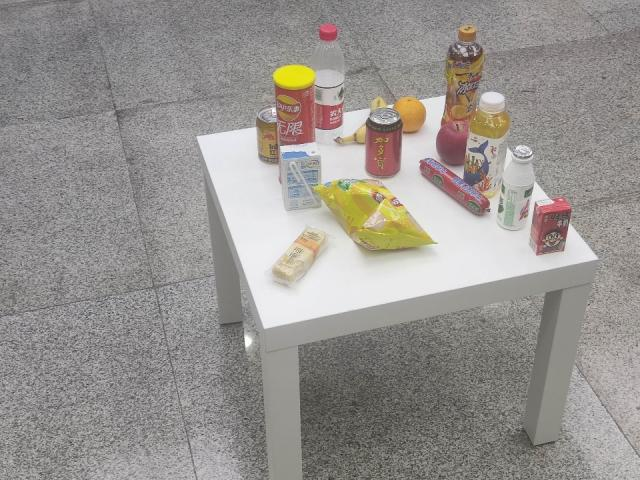Canned_drinks: (366, 107, 400, 179), (256, 103, 282, 163)
bottle: (303, 24, 348, 139)
cylinder: (273, 65, 317, 141)
drink_box: (274, 139, 330, 215), (526, 191, 574, 259)
